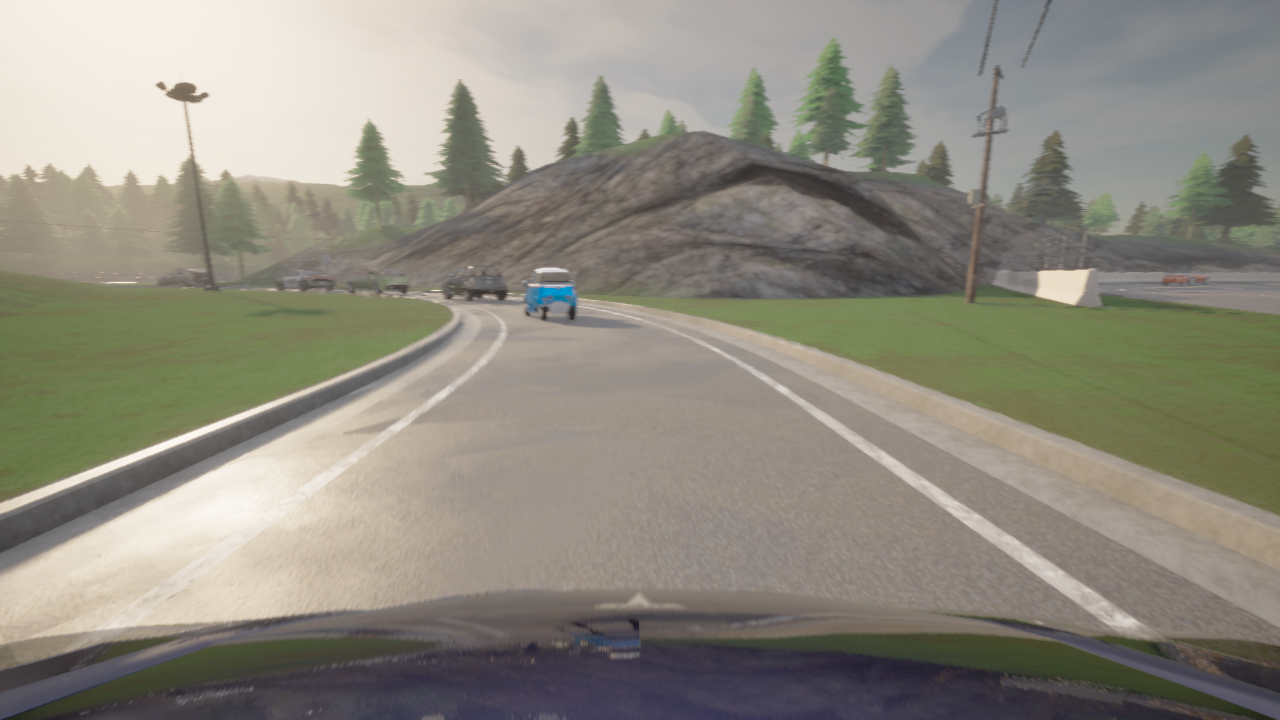cyclist: (0, 588, 1279, 719), (522, 267, 576, 321), (443, 264, 507, 301), (345, 268, 409, 294), (276, 268, 336, 291), (157, 269, 215, 287), (1162, 268, 1209, 285)
